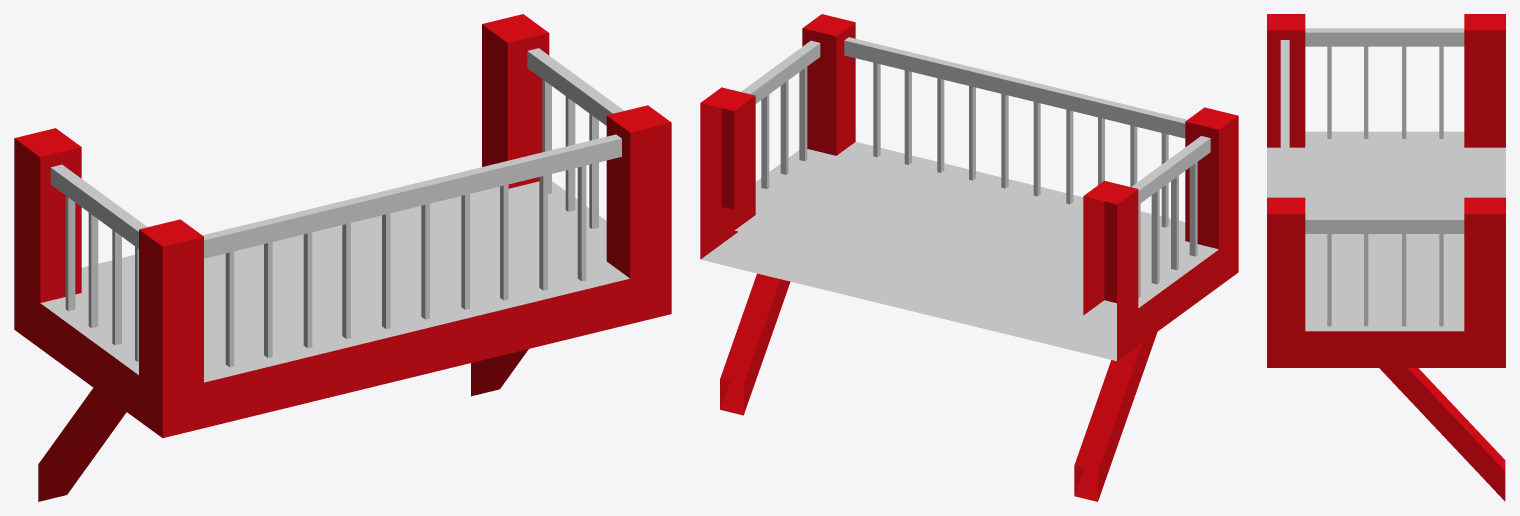
The model's file is arch_balcony.glb.
The picture shows the model from 3 angles, left to right: view 1: azimuth 30°, elevation 25°; view 2: azimuth 150°, elevation 25°; view 3: azimuth 270°, elevation 25°; orthographic projection. The views are drawn at different scales.
Visible parts, largest first — view 1: mesh; view 2: mesh; view 3: mesh.
Part boxes in pixels (x1,y1,x2,y2): mesh: (14,14,671,501); mesh: (700,14,1238,501); mesh: (1267,14,1505,501).
Bounding box in the file's own units: 5.98 × 4.15 × 3.02.
